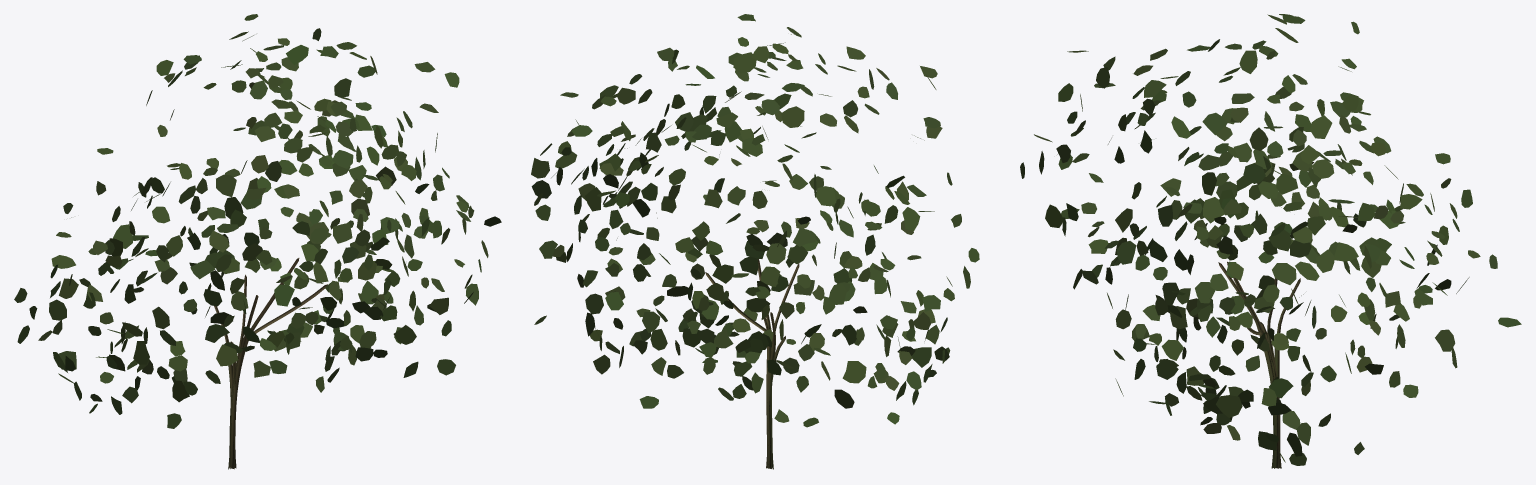
File: SM_TreeFar_hazel_1.glb
The picture shows the model from 3 angles, left to right: view 1: azimuth 30°, elevation 25°; view 2: azimuth 150°, elevation 25°; view 3: azimuth 270°, elevation 25°; orthographic projection. The views are drawn at different scales.
Visible parts, largest first — view 1: SM_TreeFar_hazel_1; view 2: SM_TreeFar_hazel_1; view 3: SM_TreeFar_hazel_1.
Boxes of the visible parts, left/top/right/bottom form: SM_TreeFar_hazel_1: left=14, top=14, right=501, bottom=469; SM_TreeFar_hazel_1: left=531, top=14, right=979, bottom=469; SM_TreeFar_hazel_1: left=1020, top=14, right=1521, bottom=468.
Bounding box in the file's own units: 6.4 × 6.31 × 6.28.
